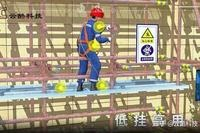safety belt: (79, 22, 96, 60)
